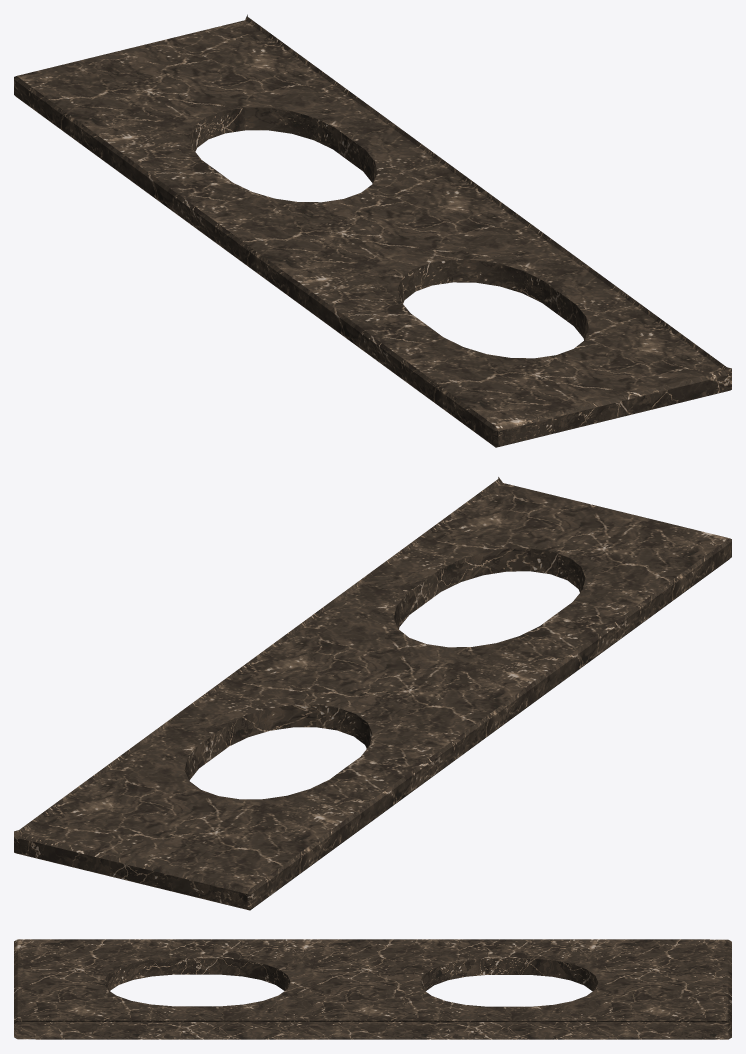
The picture shows the model from 3 angles, top to bottom: view 1: azimuth 30°, elevation 25°; view 2: azimuth 150°, elevation 25°; view 3: azimuth 270°, elevation 25°; orthographic projection. The views are drawn at different scales.
Visible parts, largest first — view 1: FP416:polySurface106_1b64c48d; view 2: FP416:polySurface106_1b64c48d; view 3: FP416:polySurface106_1b64c48d.
Boxes of the visible parts, x1,y1,x2,y2 form: FP416:polySurface106_1b64c48d: (14, 14, 731, 447); FP416:polySurface106_1b64c48d: (14, 477, 731, 910); FP416:polySurface106_1b64c48d: (14, 939, 731, 1039).
Bounding box in the file's own units: 0.6992 × 0.0692 × 2.49.
